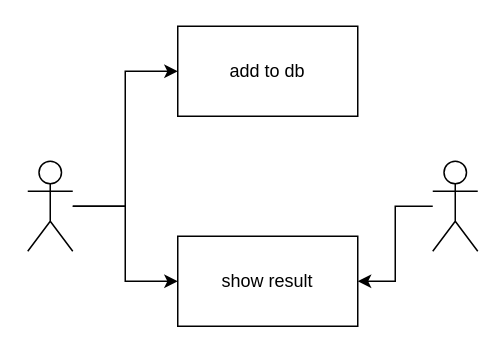
This 504x353 diagram has some shape labels left out. Here are the shapes that lost their labels. From the top down, the box of each, then its label:
(26, 160, 73, 251): admin
(431, 160, 478, 251): user
